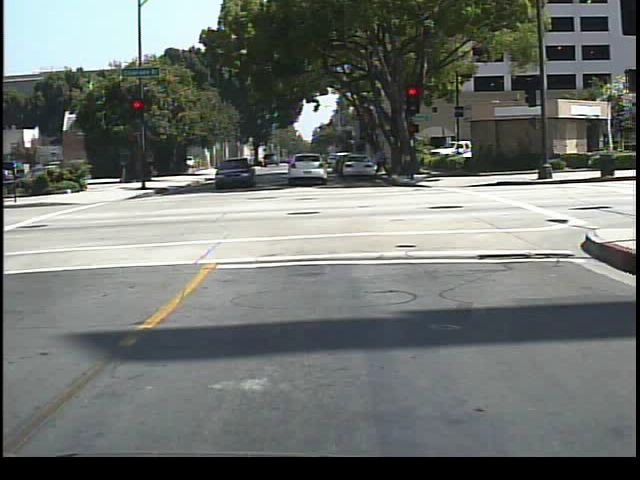person: (371, 144, 393, 185)
